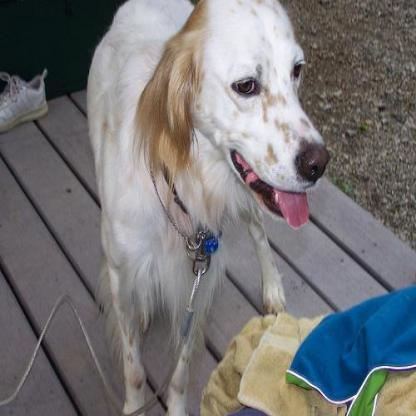English_setter: (83, 0, 332, 414)
